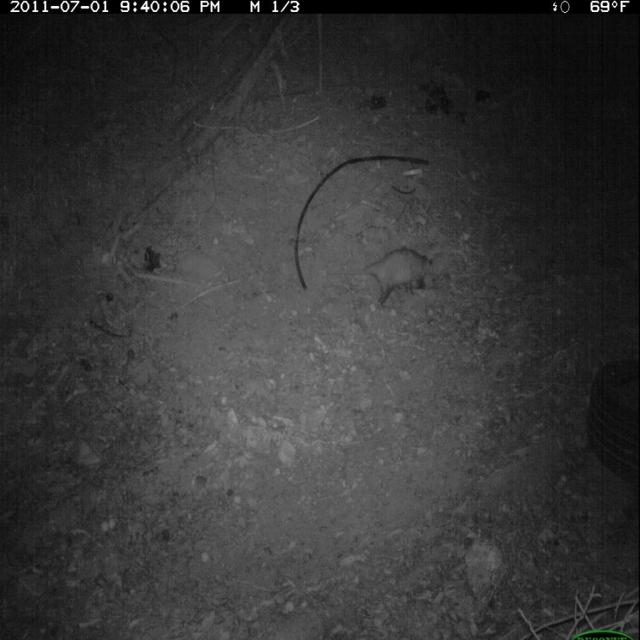opossum: (346, 230, 464, 313)
